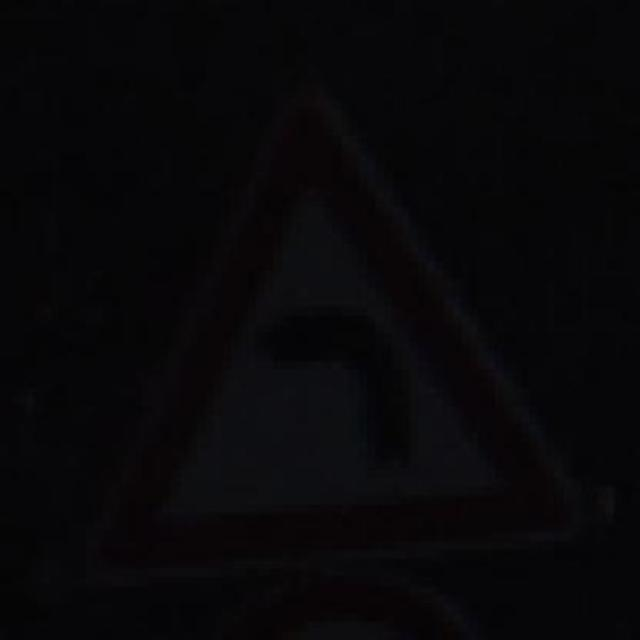Dangerous Left Curve Ahead: (77, 81, 572, 568)
